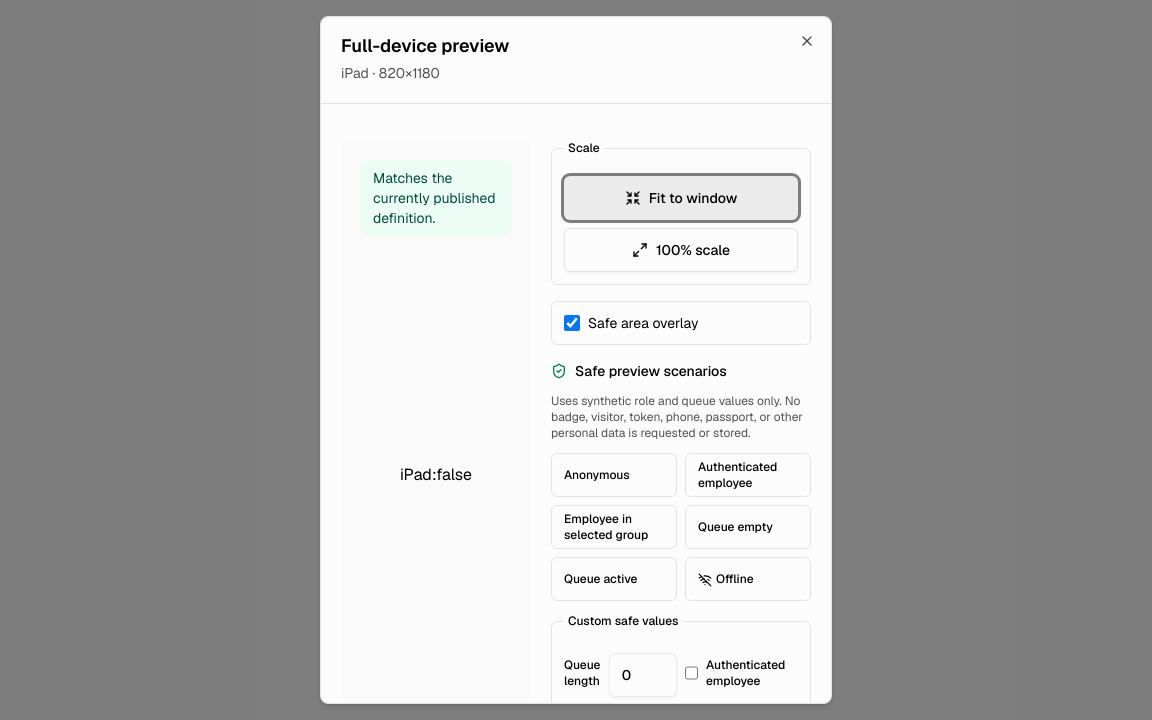
Test: ExperiencePreviewDialog › renders the selected variant and forwards only the selected synthetic scenario
This screenshot has width=1152, height=720.
Expected: the text with test id "scenario-preview" reads "iPad:false", [400,463,472,487]
Click the button "Authenticated employee". click: (748, 475)
box: [685,453,811,497]
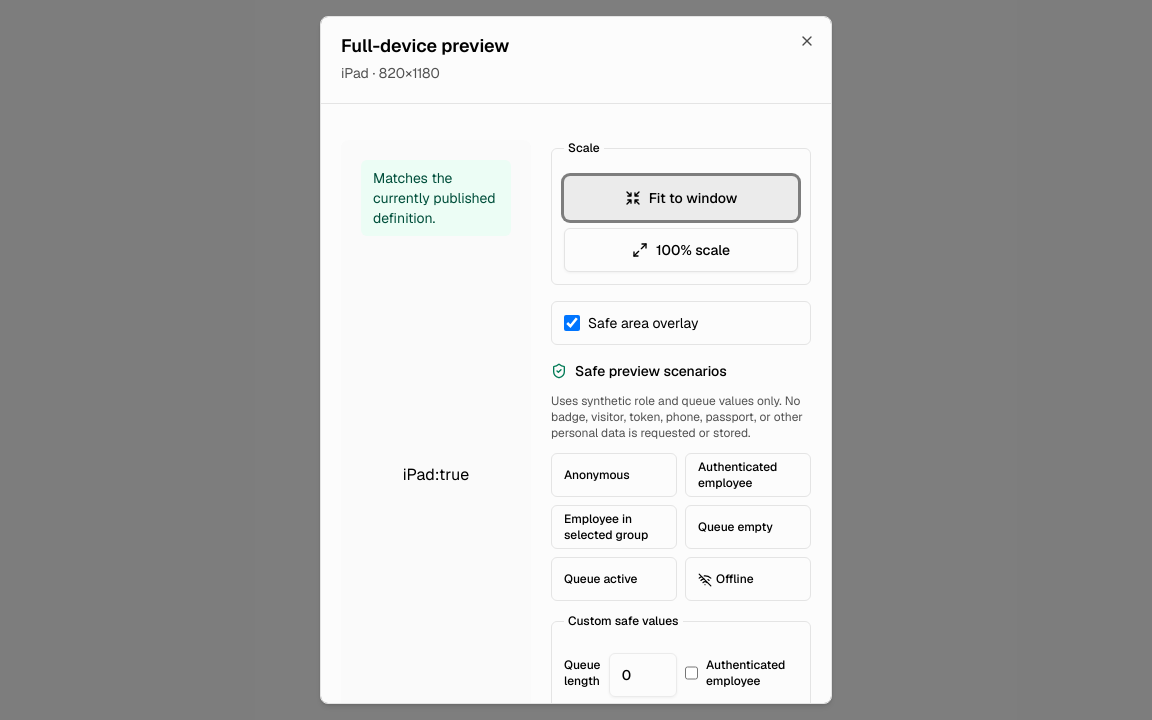
Result: the text with test id "scenario-preview" reads "iPad:true" at [403,463,469,487]
